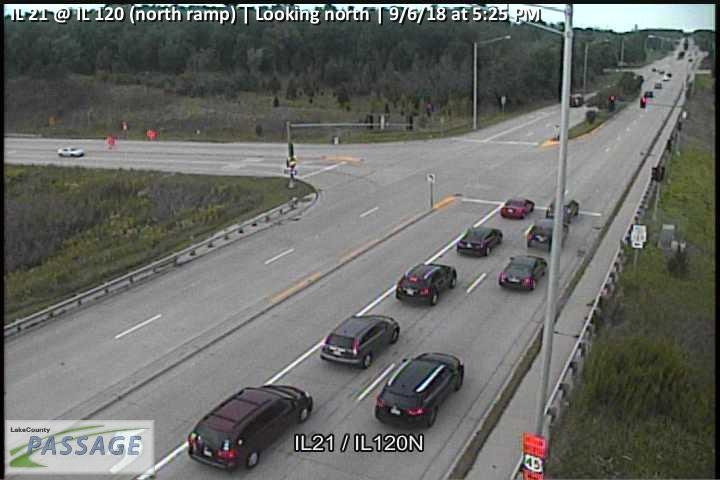SUV: (187, 383, 313, 472), (374, 350, 465, 429), (319, 313, 400, 370)
Sedan: (395, 263, 458, 306), (497, 254, 547, 290), (456, 226, 503, 256), (527, 221, 570, 251), (545, 198, 580, 221), (500, 196, 535, 219), (56, 146, 83, 156)
